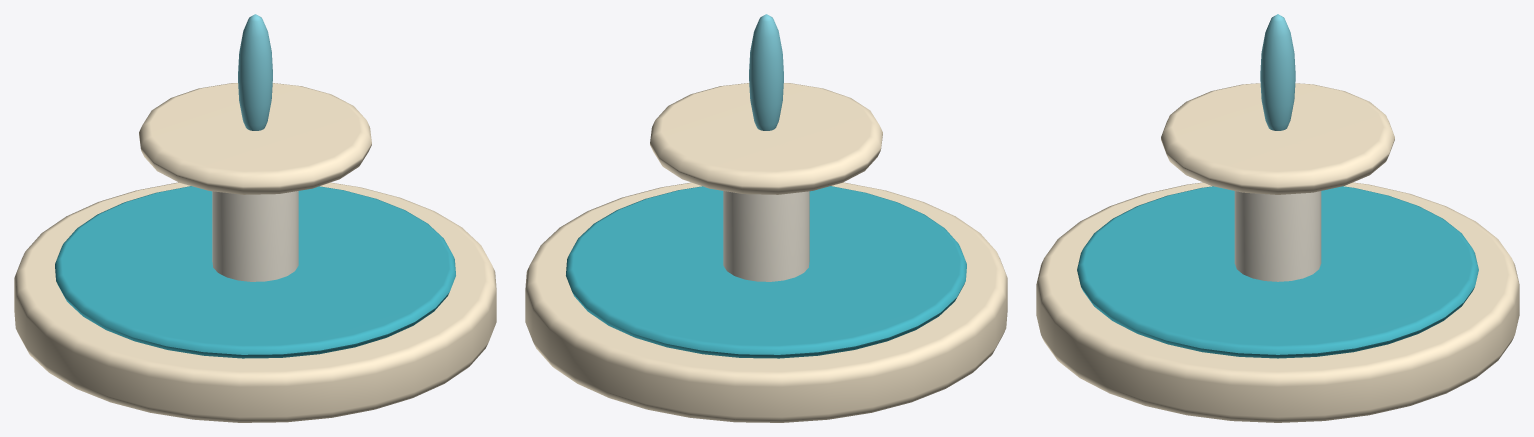
File: fountain.fbx
3 views of the same model, side by side, from view 1: azimuth 30°, elevation 25°; view 2: azimuth 150°, elevation 25°; view 3: azimuth 270°, elevation 25° (orthographic).
Visible parts, largest first — view 1: Water, Fountain base, Upper basin, Pedestal, Water jet; view 2: Water, Fountain base, Upper basin, Pedestal, Water jet; view 3: Water, Fountain base, Upper basin, Pedestal, Water jet.
Part boxes in pixels (x1,y1,x2,y2): Water: (55,186,455,358); Fountain base: (14,182,496,422); Upper basin: (139,83,371,194); Pedestal: (212,191,298,281); Water jet: (238,14,272,130); Water: (566,186,966,358); Fountain base: (525,182,1007,422); Upper basin: (650,83,882,194); Pedestal: (723,191,809,281); Water jet: (749,14,783,130); Water: (1077,186,1478,358); Fountain base: (1036,182,1519,422); Upper basin: (1161,83,1394,194); Pedestal: (1234,191,1321,281); Water jet: (1260,14,1295,130).
Size of the model in its own units: 1.9 by 1.35 by 1.9.
